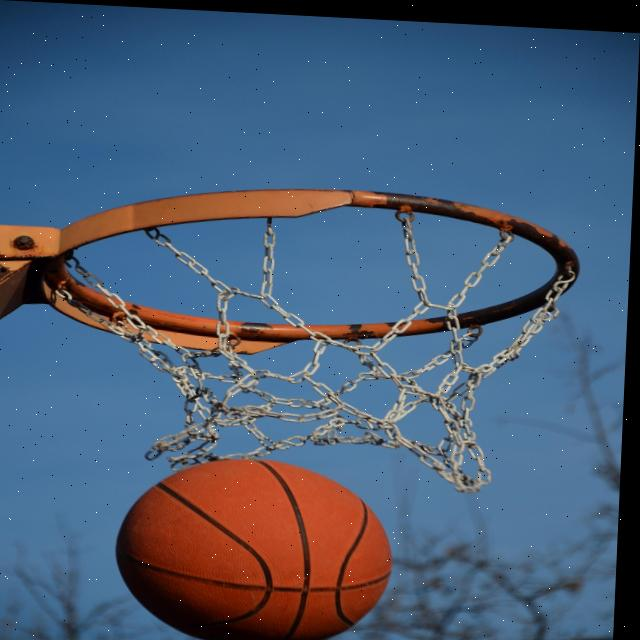Basketball: (115, 455, 401, 640)
